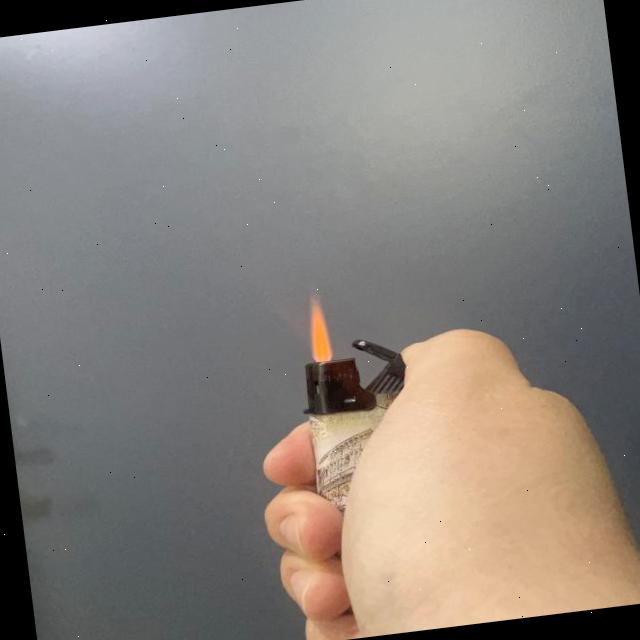fire: (298, 290, 338, 366)
